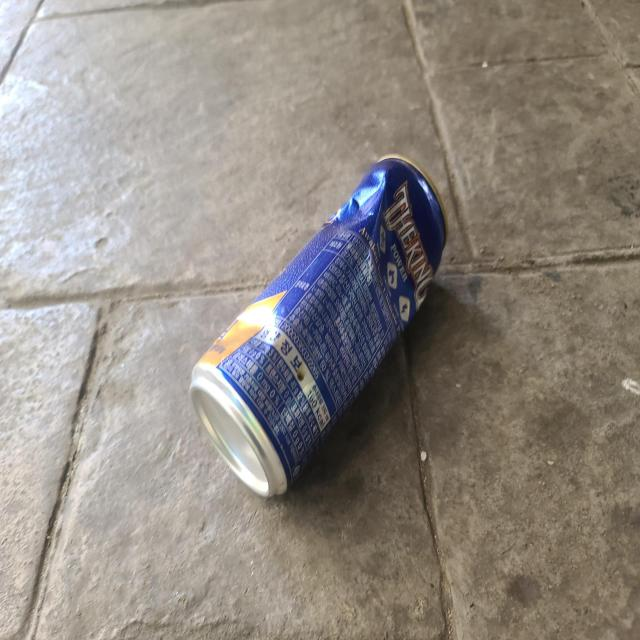can: (190, 154, 448, 497)
